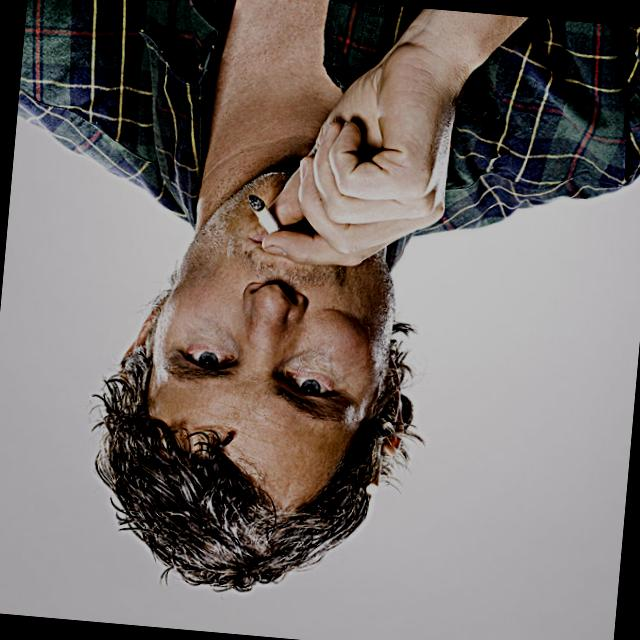cigarette: (246, 194, 282, 236)
